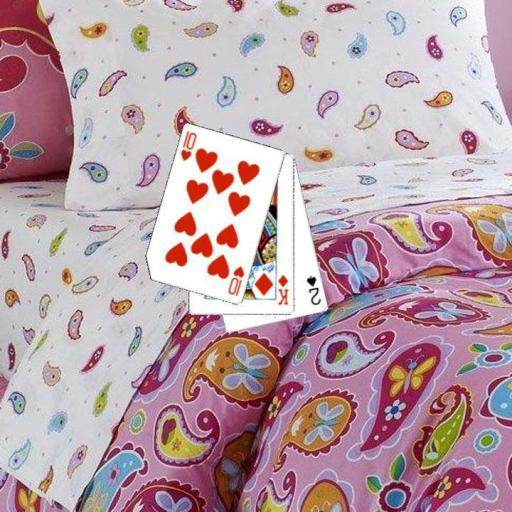10H: (225, 263, 246, 298), (178, 128, 198, 163)
2S: (304, 273, 323, 307)
KD: (275, 272, 290, 307)
